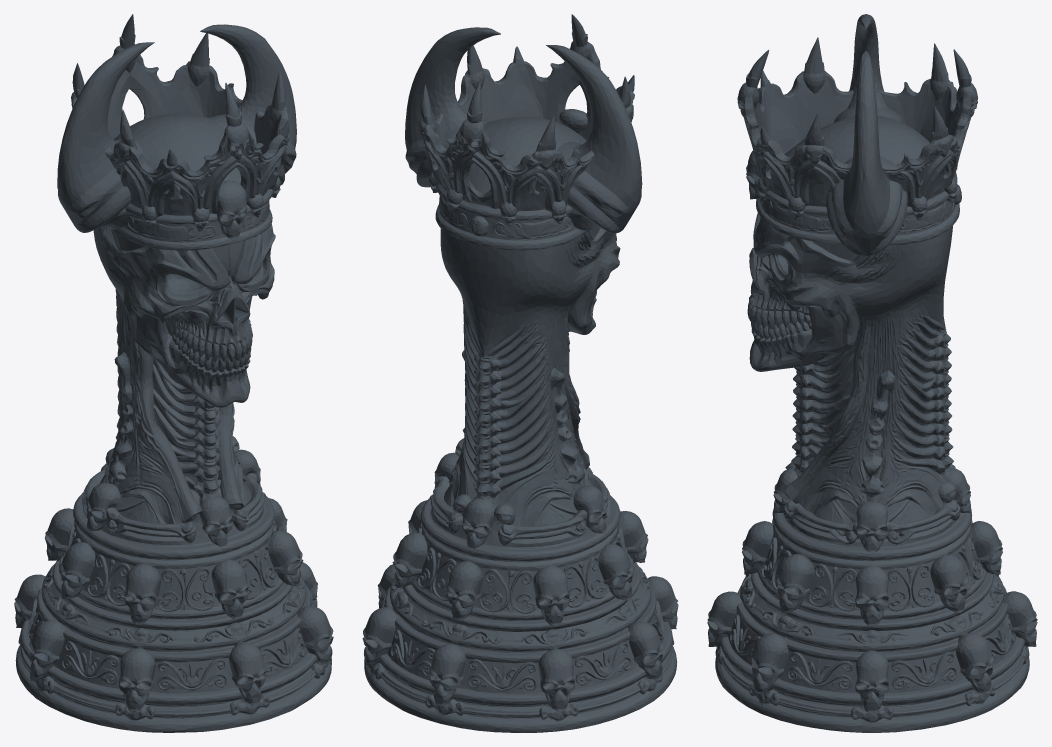
The picture shows the model from 3 angles, left to right: view 1: azimuth 30°, elevation 25°; view 2: azimuth 150°, elevation 25°; view 3: azimuth 270°, elevation 25°; orthographic projection.
Parts seen in each view (by area): view 1: 3MF Object.007; view 2: 3MF Object.007; view 3: 3MF Object.007.
Part boxes in pixels (x1=…): 3MF Object.007: x1=14, y1=14, x2=333, y2=732; 3MF Object.007: x1=362, y1=14, x2=678, y2=732; 3MF Object.007: x1=707, y1=14, x2=1037, y2=732.
Bounding box in the file's own units: 0.0421 × 0.0898 × 0.0427.
Materials: 1 (1 with a texture image).
